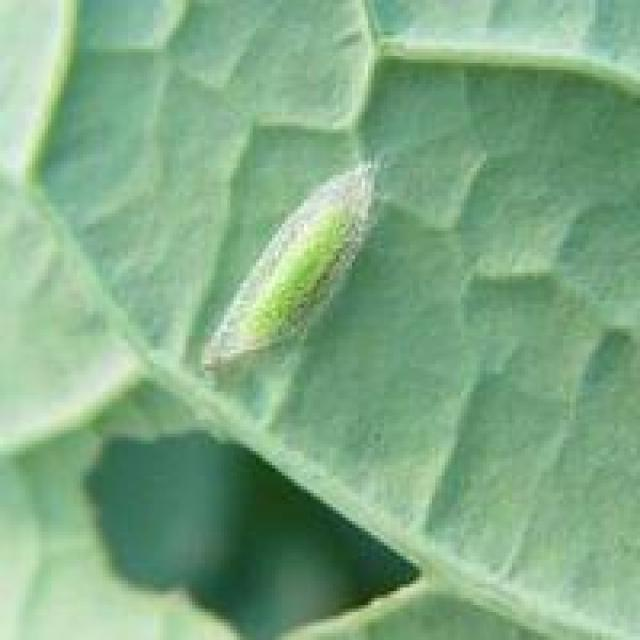armyworm: (203, 158, 379, 365)
